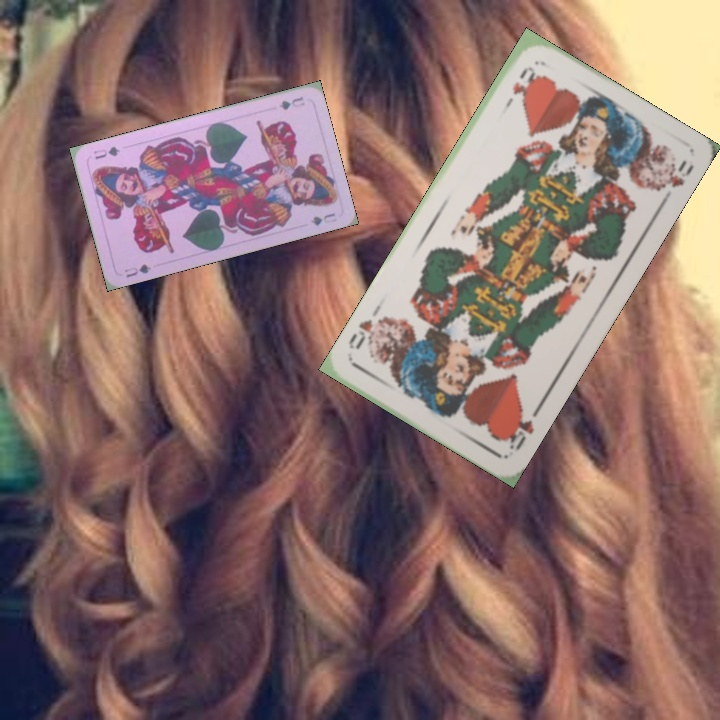GU: (120, 260, 153, 280), (275, 93, 307, 112)
HO: (501, 403, 543, 453), (499, 62, 538, 113)
